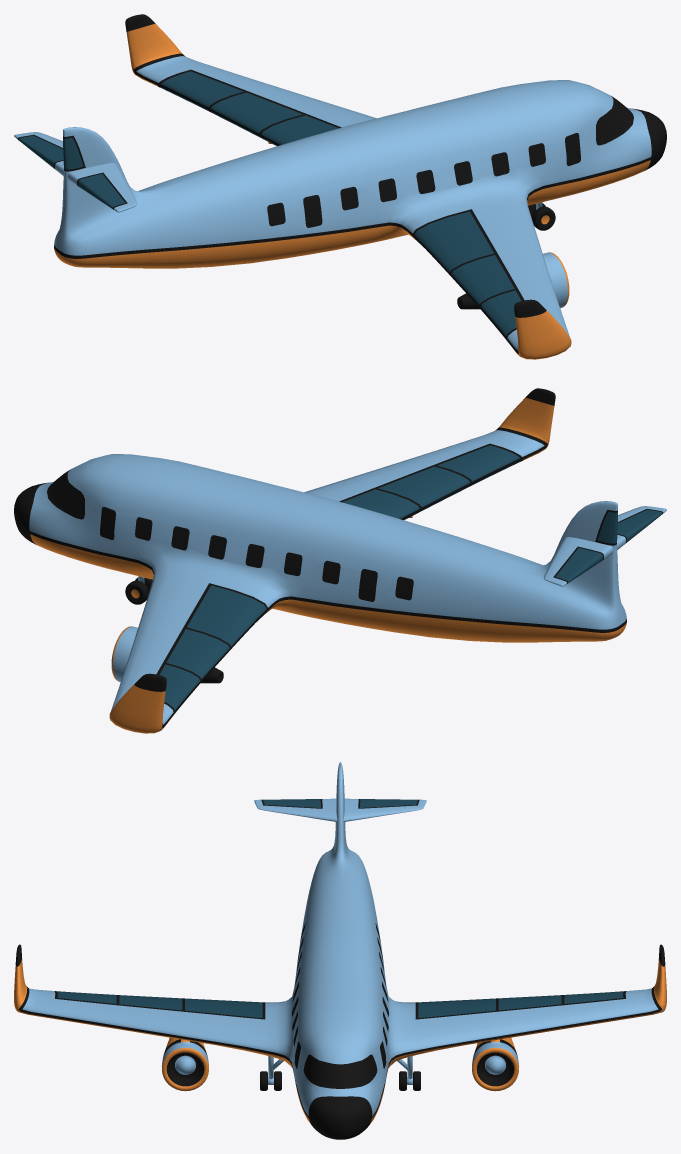
Rendered from 18_1_Airplane_AIRPORT_0.obj.
The picture shows the model from 3 angles, top to bottom: view 1: azimuth 30°, elevation 25°; view 2: azimuth 150°, elevation 25°; view 3: azimuth 270°, elevation 25°; orthographic projection. The views are drawn at different scales.
Visible parts, largest first — view 1: 18.1.Airplane_AIRPORT_0; view 2: 18.1.Airplane_AIRPORT_0; view 3: 18.1.Airplane_AIRPORT_0.
Part boxes in pixels (<box>): 18.1.Airplane_AIRPORT_0: <box>14,14,666,359</box>; 18.1.Airplane_AIRPORT_0: <box>14,388,666,733</box>; 18.1.Airplane_AIRPORT_0: <box>14,762,666,1139</box>.
Size of the model in its own units: 51.34 by 17.36 by 58.31.
1 material, 1 textured.
